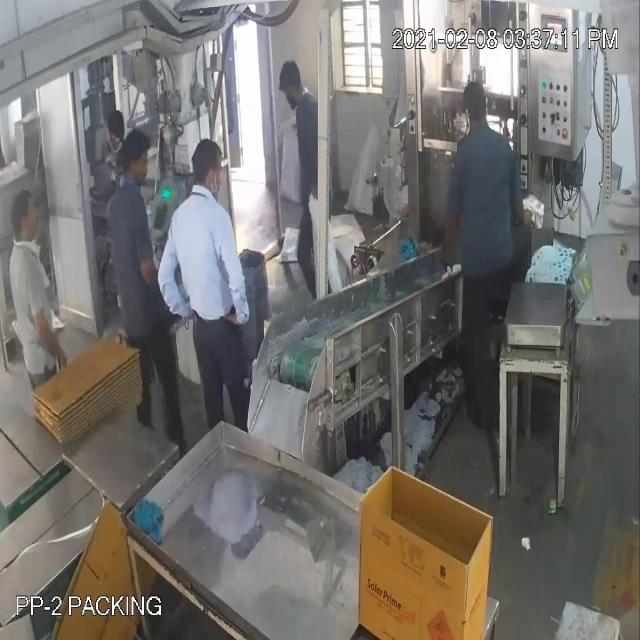No_Gloves: (38, 84, 232, 330)
